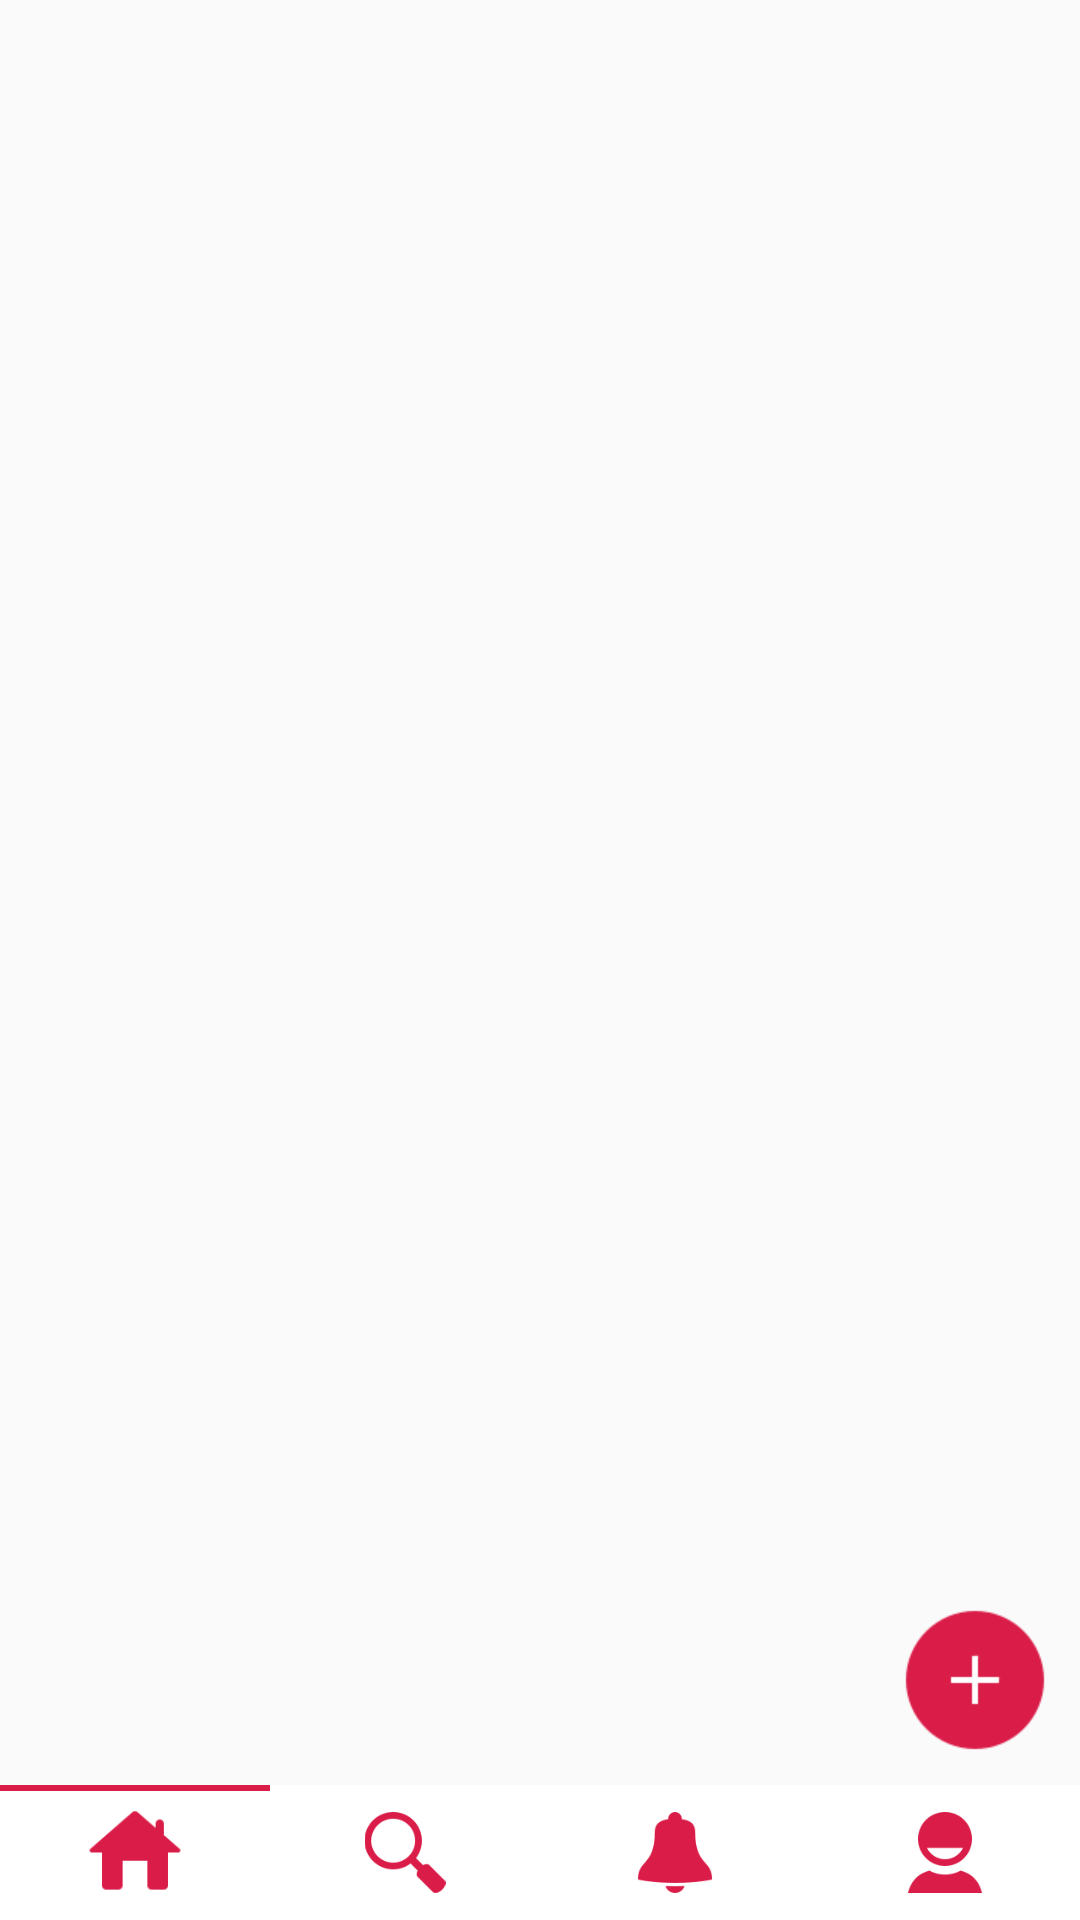

Screen size 1080*1920. Icon name, then its center in pixels as point (x, y):
add: point (975, 1680)
home: point (135, 1850)
notification: point (675, 1852)
profile: point (945, 1852)
search: point (405, 1852)
